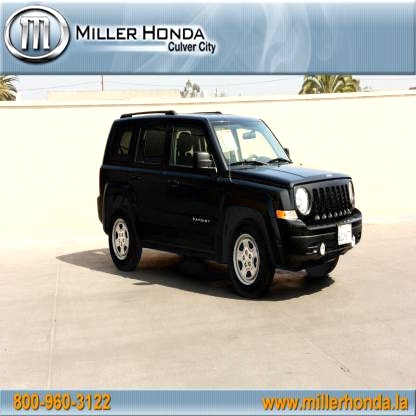Vehicle: (96, 108, 364, 296)
